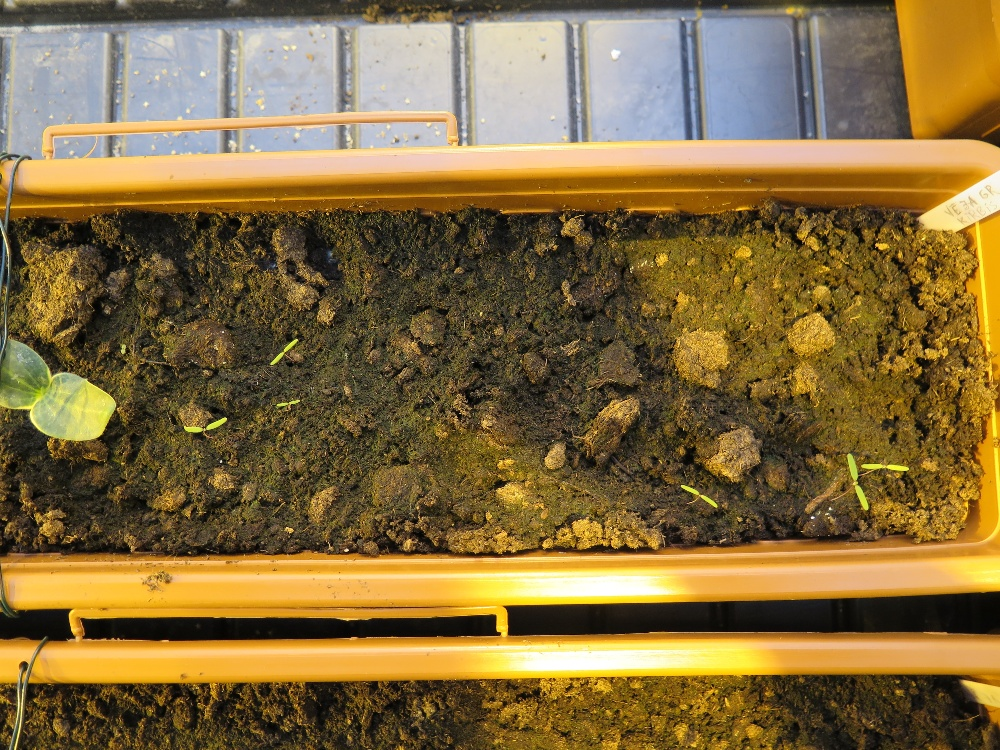weed: (1, 321, 123, 449), (834, 449, 873, 520), (671, 481, 730, 524), (857, 451, 921, 488), (175, 404, 232, 445), (264, 331, 305, 372), (273, 392, 309, 420)
